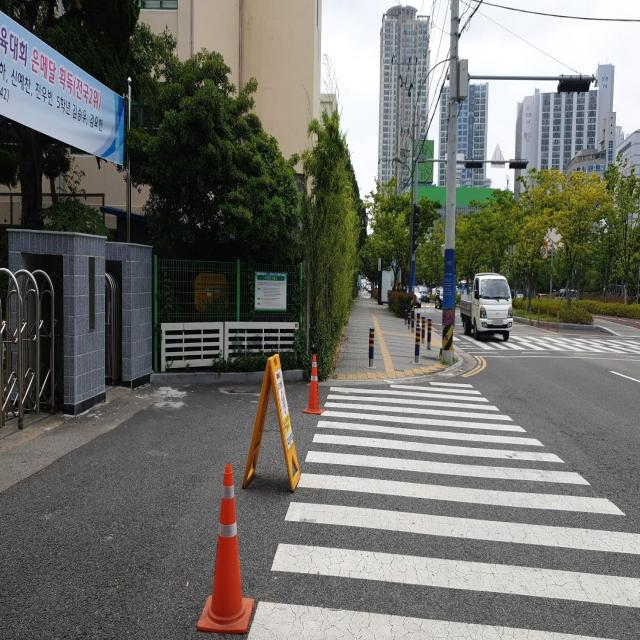횡단보도: (243, 373, 640, 639), (449, 332, 640, 358)
